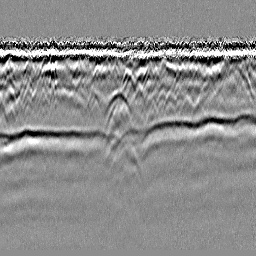cavity: (120, 66, 136, 91)
